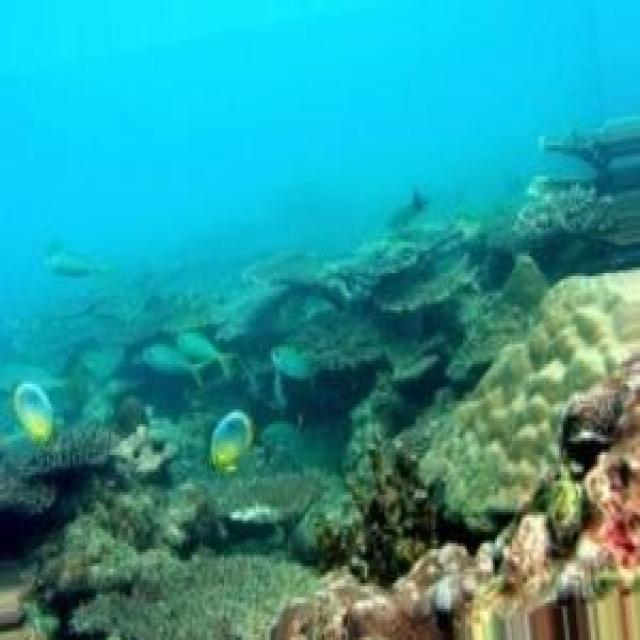bleached coral: (401, 270, 640, 523), (79, 558, 318, 640), (471, 512, 623, 640), (279, 575, 442, 640), (68, 503, 139, 572), (111, 424, 173, 486), (0, 577, 43, 640), (226, 503, 284, 523)
healthy coral: (489, 125, 640, 279), (87, 253, 326, 344), (279, 358, 388, 478), (183, 361, 284, 472), (335, 245, 471, 321)
